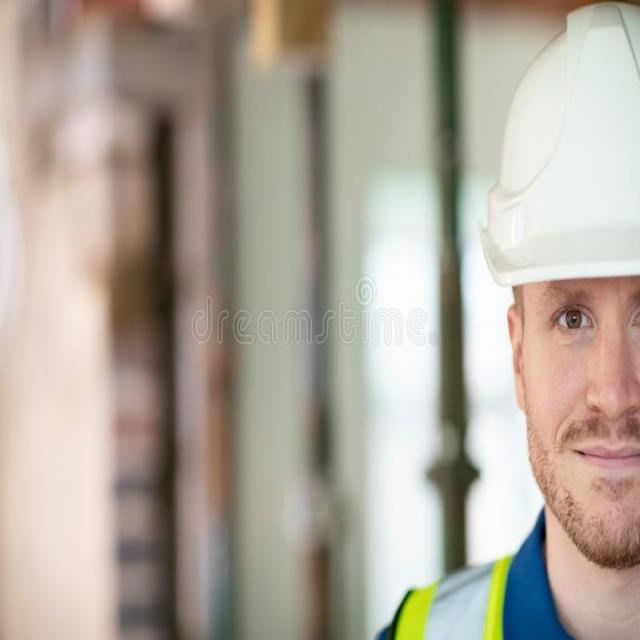Reflective-Jacket: (396, 551, 638, 640)
Safety-Helmet: (473, 6, 640, 290)
